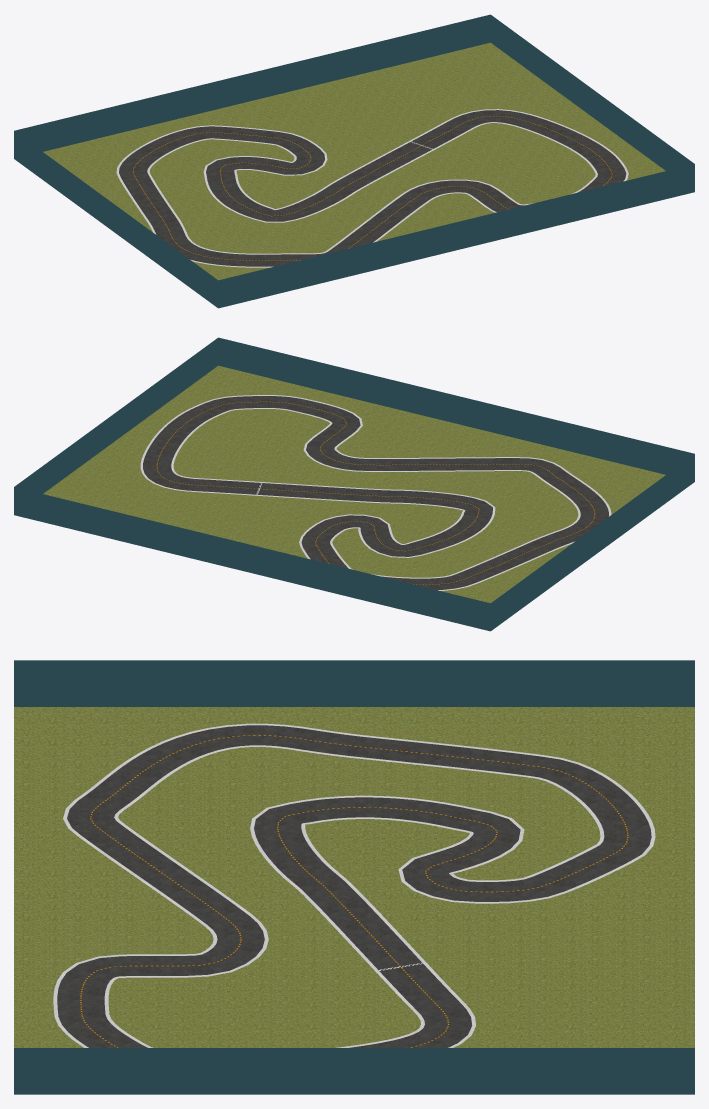
The model's file is 2022_june_pro_ccw.dae.
The picture shows the model from 3 angles, top to bottom: view 1: azimuth 30°, elevation 25°; view 2: azimuth 150°, elevation 25°; view 3: azimuth 270°, elevation 25°; orthographic projection. The views are drawn at different scales.
Parts seen in each view (by area): view 1: field, wall, road, il, ol, cl; view 2: field, wall, road, il, ol, cl; view 3: field, wall, road, ol, il, cl.
Part boxes in pixels (bbox=[...]): field: bbox=[43, 42, 665, 280]; wall: bbox=[14, 14, 694, 308]; road: bbox=[119, 110, 626, 266]; il: bbox=[147, 122, 597, 254]; ol: bbox=[116, 109, 628, 267]; cl: bbox=[133, 116, 612, 260]; field: bbox=[43, 365, 665, 603]; wall: bbox=[14, 337, 694, 631]; road: bbox=[143, 396, 608, 590]; il: bbox=[171, 408, 580, 578]; ol: bbox=[140, 395, 611, 590]; cl: bbox=[156, 401, 595, 584]; field: bbox=[14, 707, 694, 1047]; wall: bbox=[14, 660, 694, 1094]; road: bbox=[57, 725, 651, 1047]; ol: bbox=[53, 723, 655, 1047]; il: bbox=[104, 745, 604, 1047]; cl: bbox=[80, 735, 628, 1047].
Size of the model in its own units: 17.73 by 13.16 by 1.
Materials: 7 (7 with a texture image).
